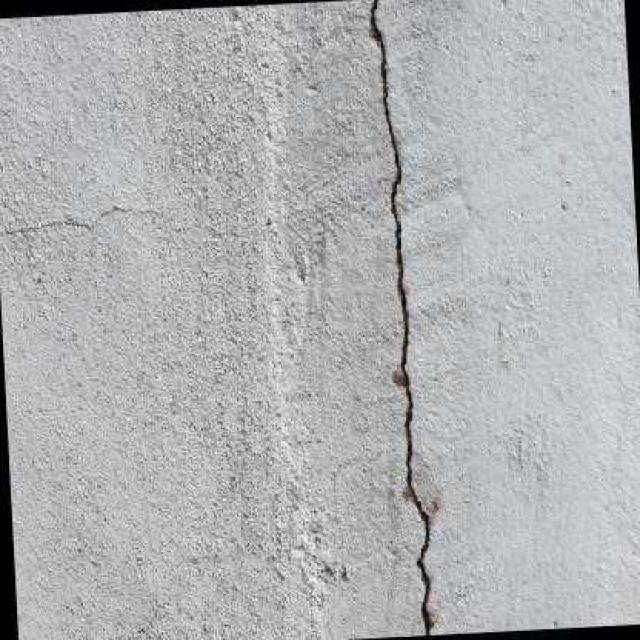D00: (364, 0, 439, 635), (0, 201, 135, 234)
